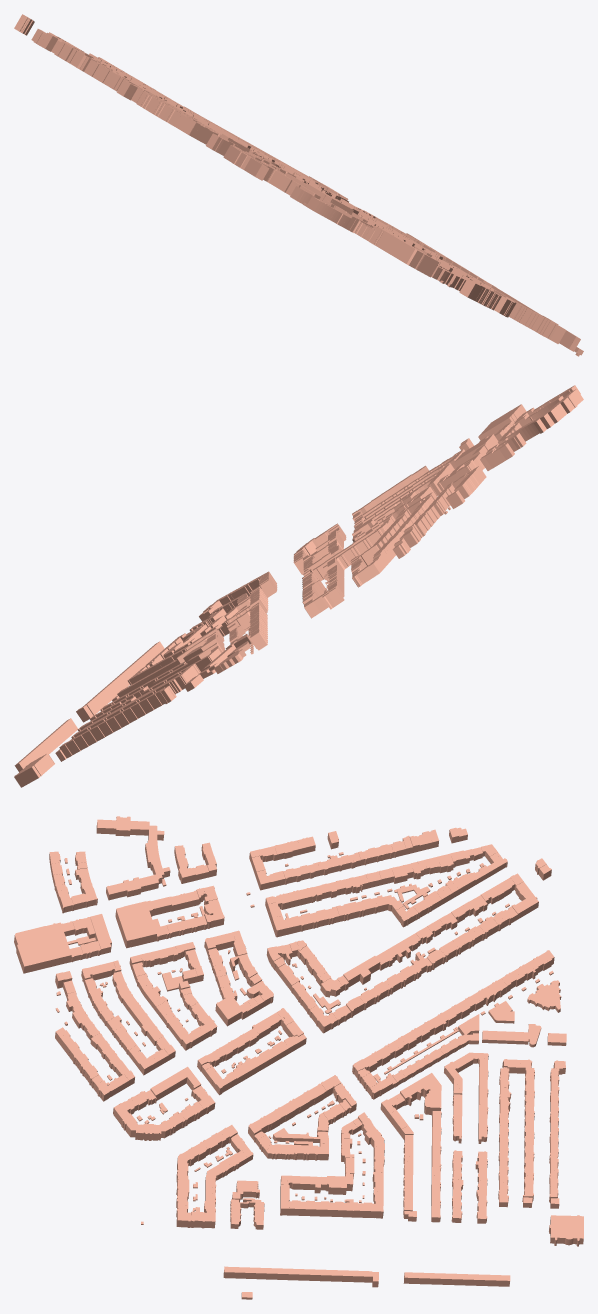
3 renders of one model, top to bottom at view 1: azimuth 30°, elevation 25°; view 2: azimuth 150°, elevation 25°; view 3: azimuth 270°, elevation 25°, orthographic. The views are drawn at different scales.
Bounding box in the file's own units: 510 × 404 × 674.
